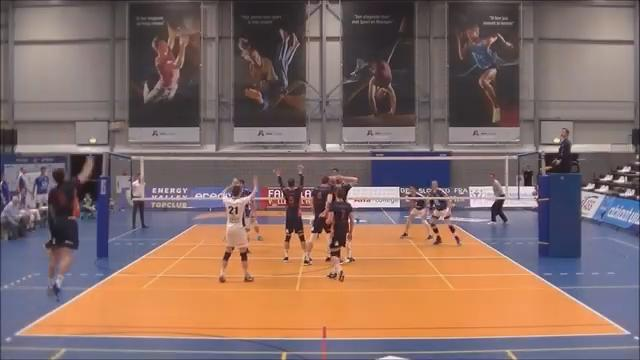battuta: (43, 148, 97, 302)
